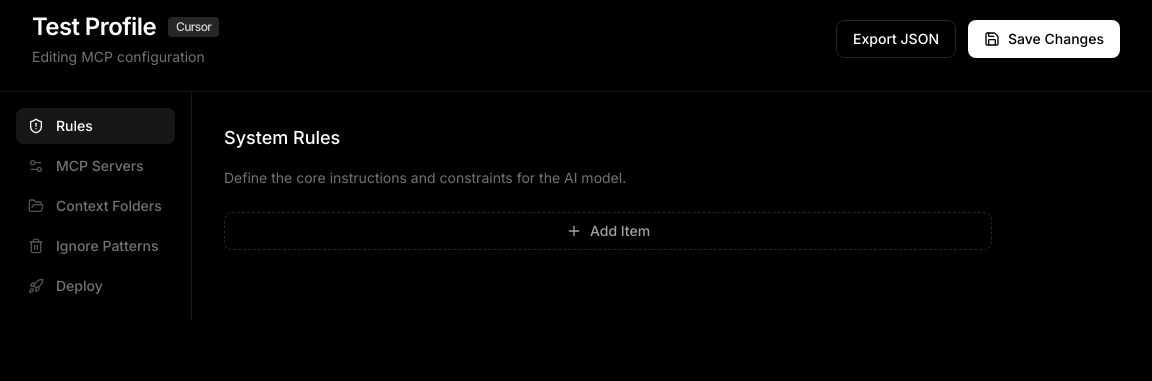
Test: EditorView › adds a new item to the rules list
Click the button "Add Item": (608, 231) x1=224 y1=212 x2=992 y2=250
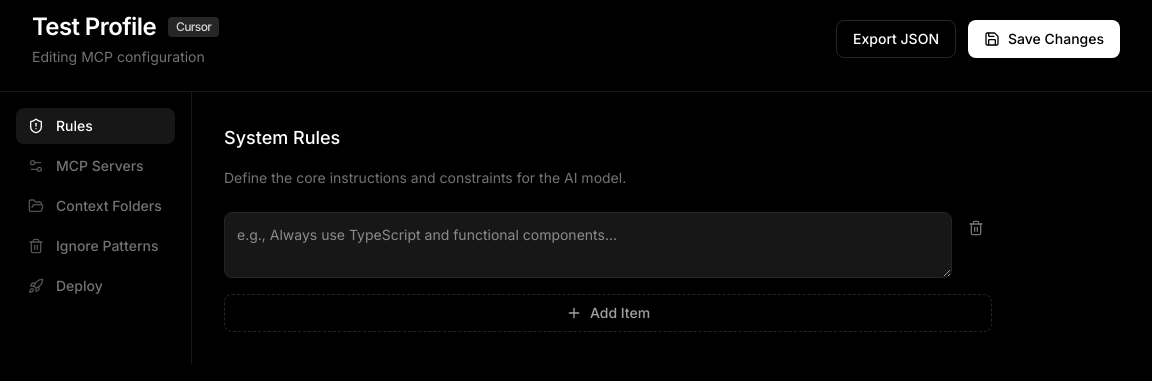
Result: the number of text boxes is 1 at x1=224 y1=212 x2=952 y2=278
